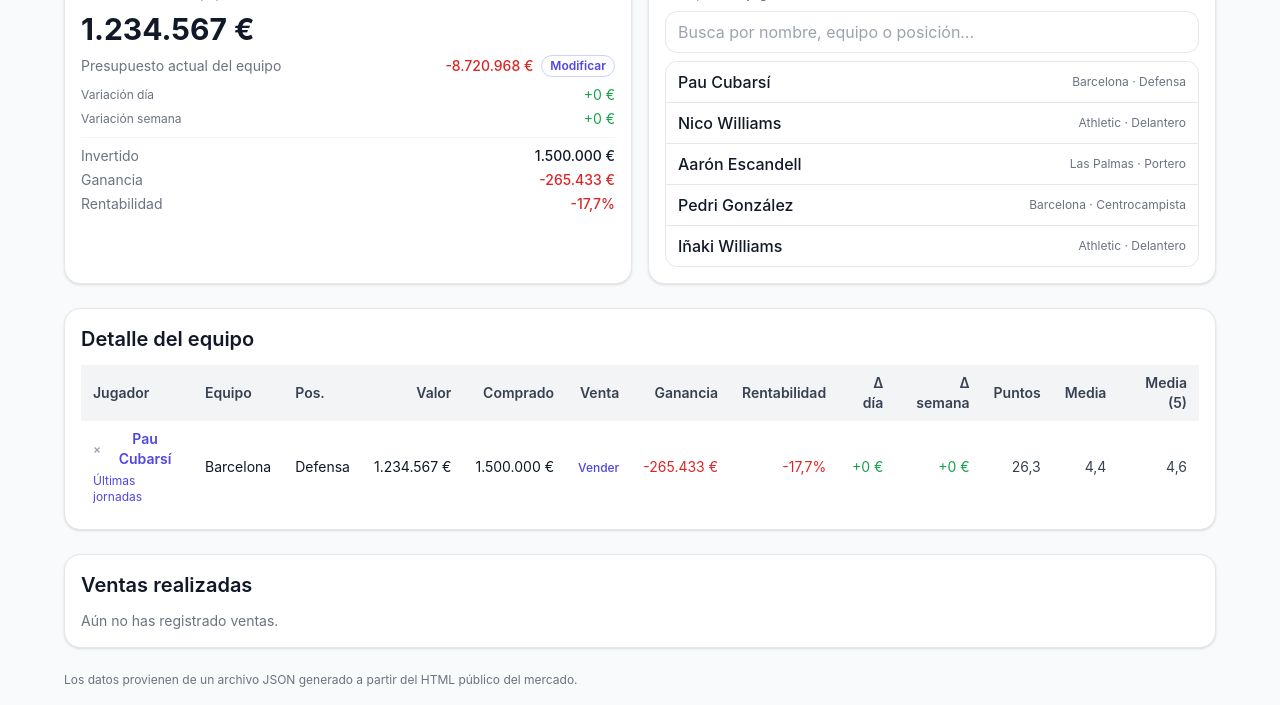
Scenario: FantasyTeamDashboard › muestra las últimas jornadas y el detalle con los datos del mercado
(page scrolled)
Check: the row named "Ver detalle de Pau Cubarsí" is shown, box [81,421,1199,513]
Step 1. Click the heading "Últimas jornadas" → (118, 488), box [93,473,142,504]
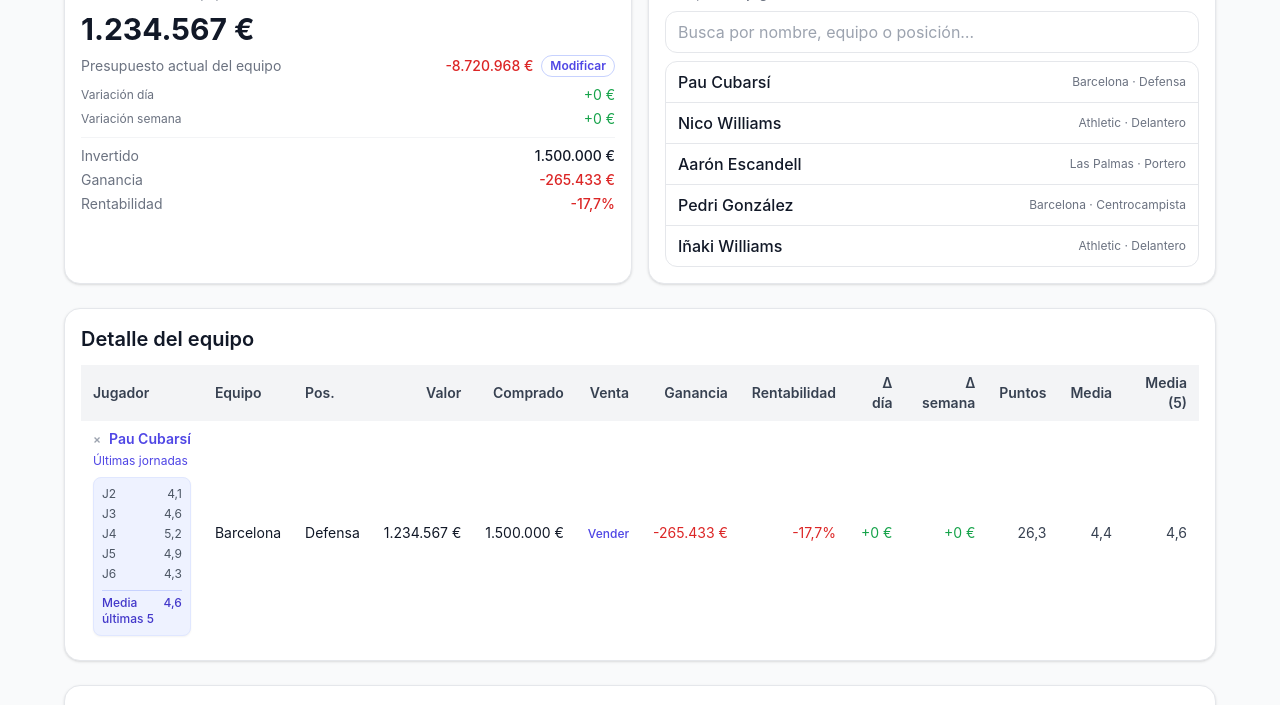
Check: the text "J6" is shown, box [102,566,116,582]
Step 2. Click the button with aria-label "Ver detalle de Pau Cubarsí" → (150, 439), box [109,429,191,449]
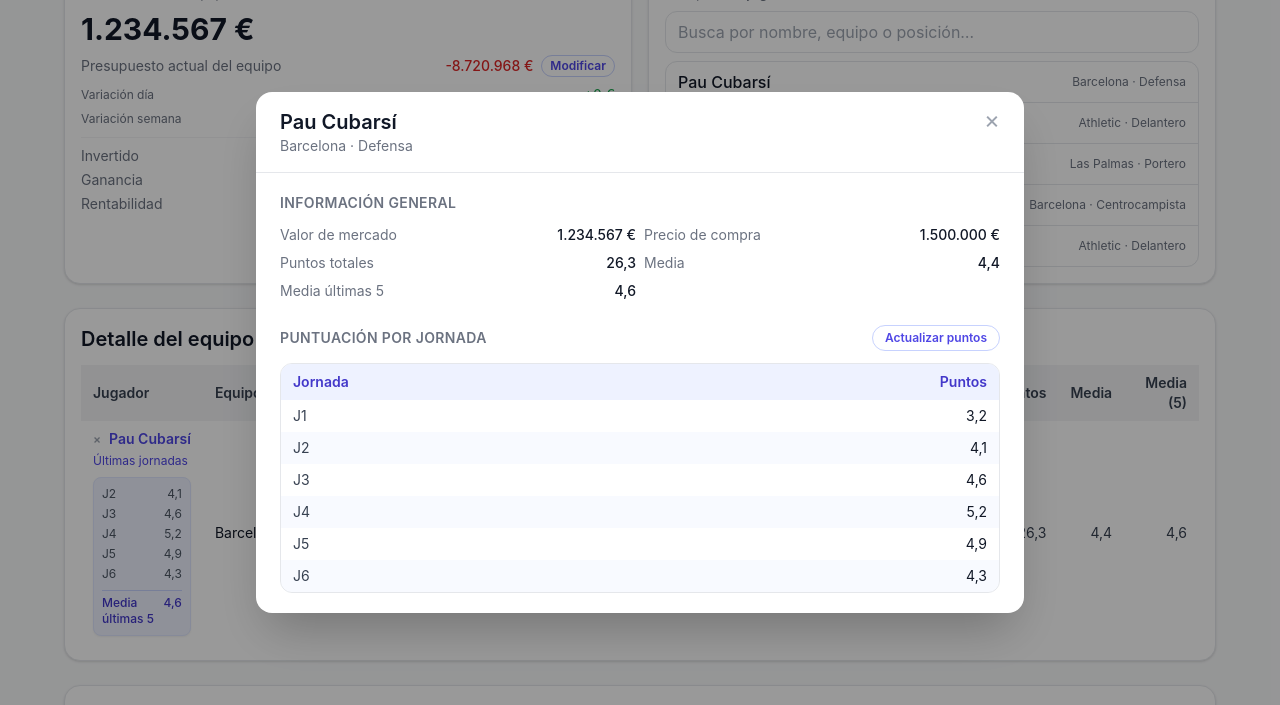
Check: the heading "Información general" is shown, box [280,194,456,210]
Check: the button "Actualizar puntos" is shown, box [872,324,1000,350]
Check: the text "3,2" is shown, box [660,400,999,432]
Step 3. Click the button named "cerrar detalle" → (992, 120), box [984,108,1000,132]
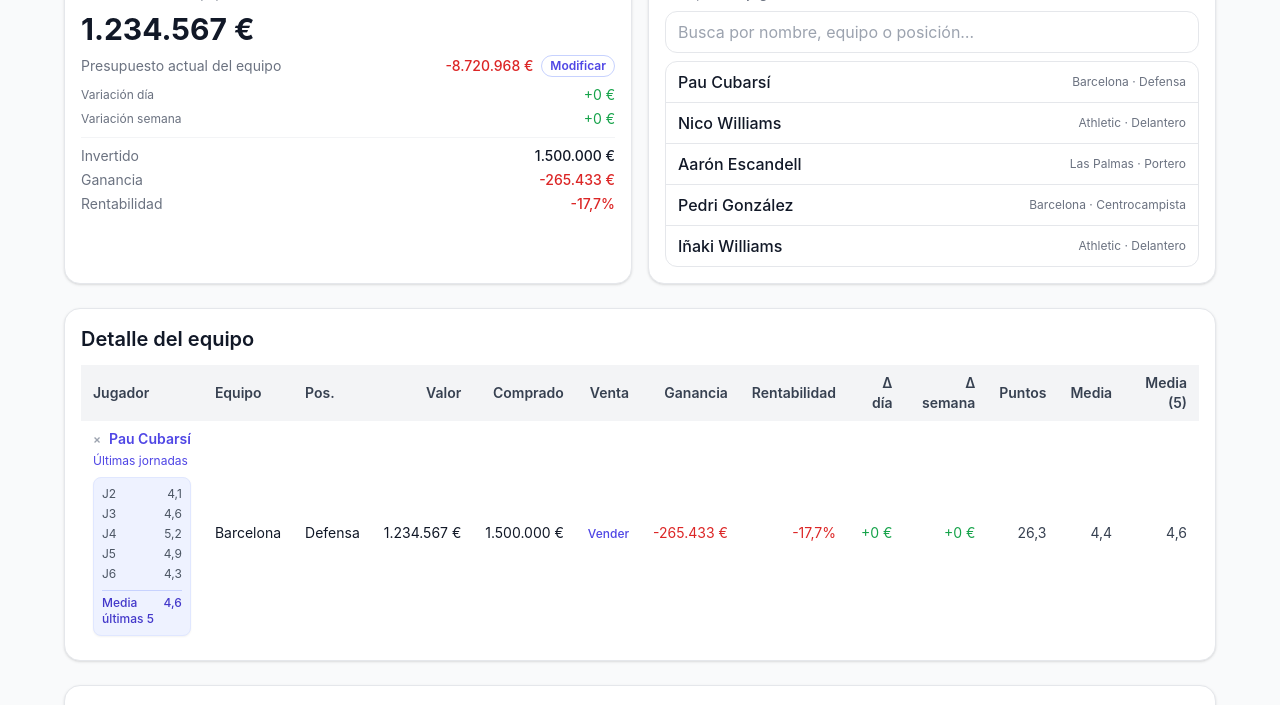
Check: the dialog is gone
